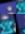recallP: (0, 14, 16, 34), (0, 1, 16, 14), (16, 14, 25, 34), (16, 0, 25, 14)
